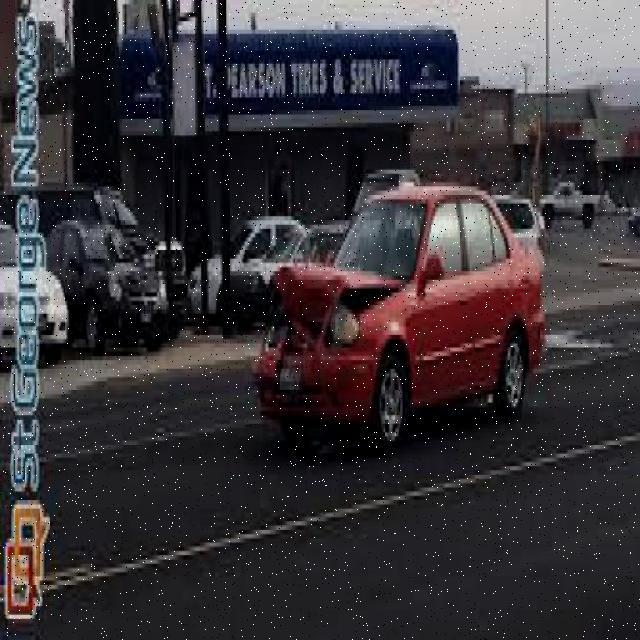car damage: (263, 264, 403, 388)
